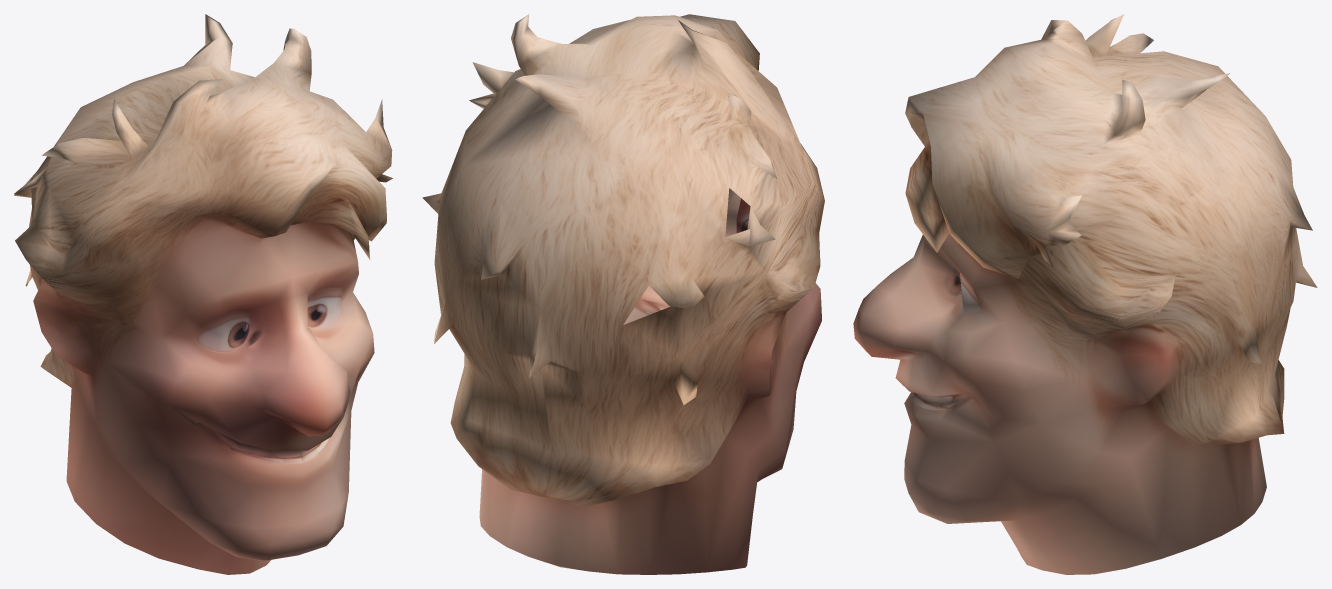
The model's file is crowd_head_m11_blond_grin.fbx.
3 renders of one model, left to right at view 1: azimuth 30°, elevation 25°; view 2: azimuth 150°, elevation 25°; view 3: azimuth 270°, elevation 25°, orthographic. The views are drawn at different scales.
Visible parts, largest first — view 1: tripo_node_bfaa86a9; view 2: tripo_node_bfaa86a9; view 3: tripo_node_bfaa86a9.
Part boxes in pixels (bbox=[...]): tripo_node_bfaa86a9: bbox=[14, 14, 392, 574]; tripo_node_bfaa86a9: bbox=[422, 14, 824, 574]; tripo_node_bfaa86a9: bbox=[853, 14, 1317, 574].
Size of the model in its own units: 0.7065 by 0.9995 by 0.8013.
1 material, 1 textured.
